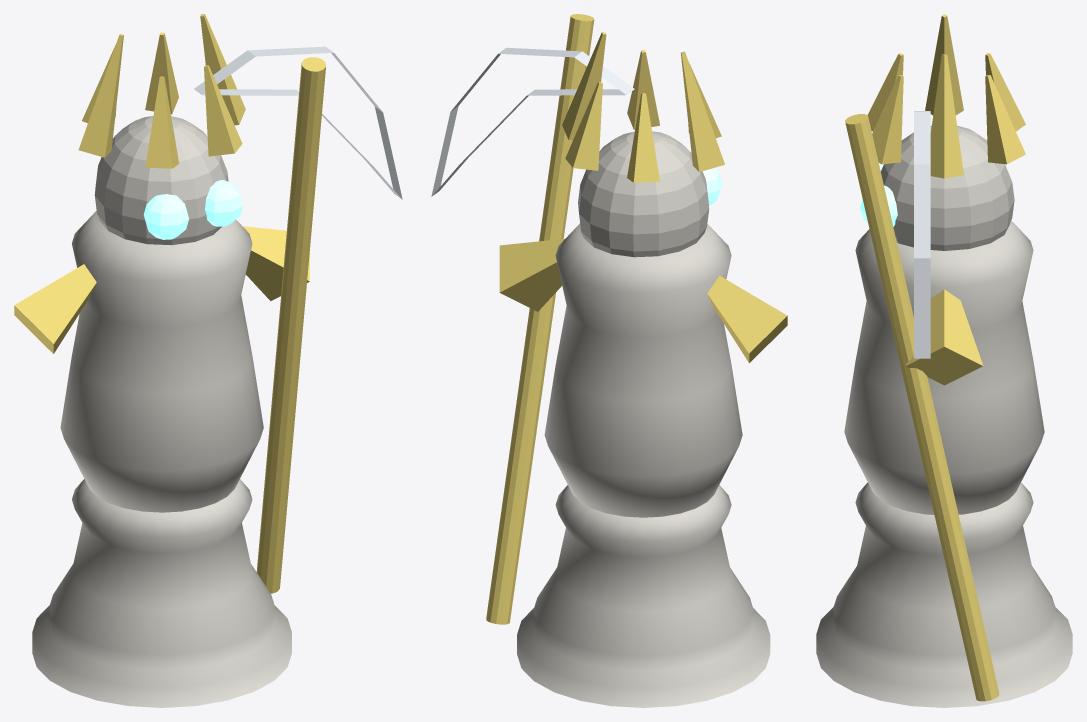
File: king_w.glb
3 renders of one model, left to right at view 1: azimuth 30°, elevation 25°; view 2: azimuth 150°, elevation 25°; view 3: azimuth 270°, elevation 25°, orthographic. The views are drawn at different scales.
Parts seen in each view (by area): view 1: King_Robe, King_Base, Hình Trụ.010, Hình Cầu.058, Hình Nón.116, King_Blade, Hình Nón.121, Hình Nón.117, Hình Nón.123, Hình Nón.122, Hình Cầu.059, Hình Nón.118 (+2 smaller); view 2: King_Robe, King_Base, Hình Trụ.010, Hình Cầu.058, Hình Nón.117, Hình Nón.116, King_Blade, Hình Nón.121, Hình Nón.119, Hình Nón.120, Hình Nón.118, Hình Nón.123; view 3: King_Base, King_Robe, Hình Trụ.010, Hình Cầu.058, King_Blade, Hình Nón.117, Hình Nón.118, Hình Nón.119, Hình Nón.123, Hình Nón.121, Hình Nón.120, Hình Nón.122.
Boxes of the visible parts, box(x1,y1,x2,y2) form: King_Robe: box(60, 211, 263, 512); King_Base: box(32, 479, 291, 707); Hình Trụ.010: box(256, 57, 325, 593); Hình Cầu.058: box(94, 116, 228, 245); Hình Nón.116: box(14, 264, 96, 353); King_Blade: box(194, 46, 402, 199); Hình Nón.121: box(78, 34, 123, 157); Hình Nón.117: box(242, 226, 309, 301); Hình Nón.123: box(204, 65, 242, 156); Hình Nón.122: box(145, 76, 179, 168); Hình Cầu.059: box(143, 194, 188, 239); Hình Nón.118: box(200, 14, 245, 125); King_Robe: box(544, 223, 742, 517); King_Base: box(517, 485, 770, 707); Hình Trụ.010: box(486, 14, 594, 624); Hình Cầu.058: box(578, 131, 709, 257); Hình Nón.117: box(499, 238, 564, 311); Hình Nón.116: box(707, 275, 787, 363); King_Blade: box(431, 47, 634, 196); Hình Nón.121: box(681, 51, 724, 171); Hình Nón.119: box(565, 82, 602, 170); Hình Nón.120: box(627, 93, 659, 182); Hình Nón.118: box(562, 32, 606, 140); Hình Nón.123: box(627, 50, 659, 129); King_Base: box(816, 482, 1072, 707); King_Robe: box(844, 220, 1044, 514); Hình Trụ.010: box(845, 114, 999, 701); Hình Cầu.058: box(881, 125, 1014, 250); King_Blade: box(914, 111, 930, 358); Hình Nón.117: box(905, 289, 983, 385); Hình Nón.118: box(930, 54, 963, 178); Hình Nón.119: box(985, 75, 1025, 164); Hình Nón.123: box(872, 75, 903, 164); Hình Nón.121: box(925, 14, 963, 115); Hình Nón.120: box(985, 53, 1025, 131); Hình Nón.122: box(868, 53, 903, 131).
Size of the model in its own units: 0.7621 by 1.23 by 0.46.
